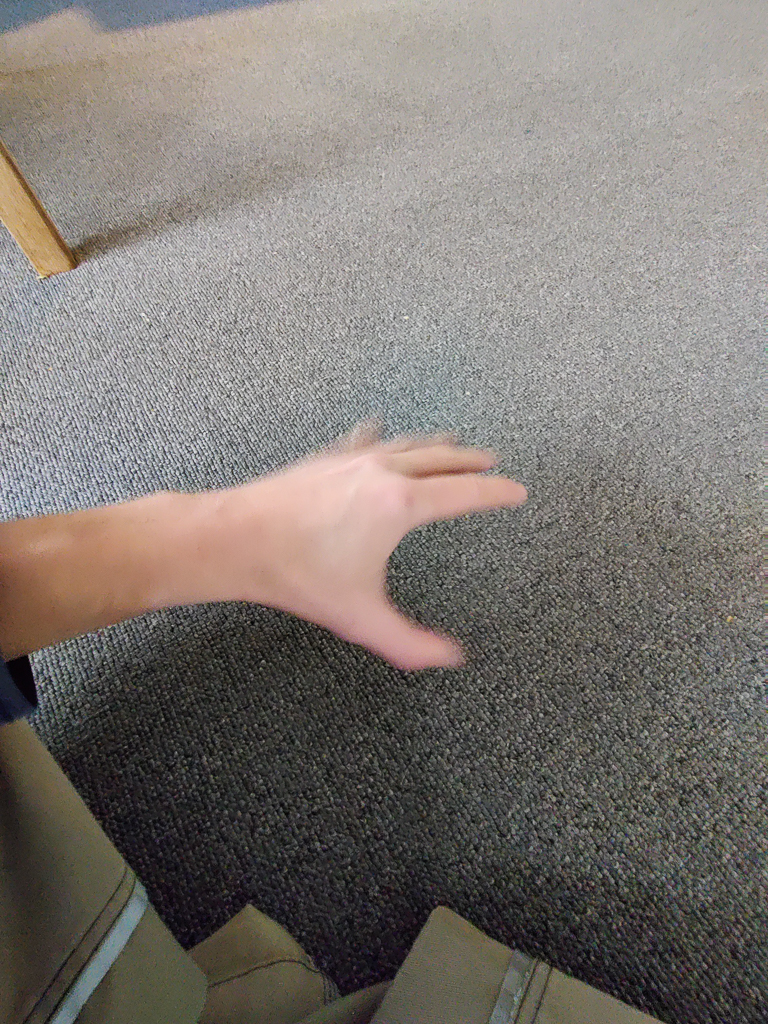Humanoid: (0, 375, 675, 1024)
